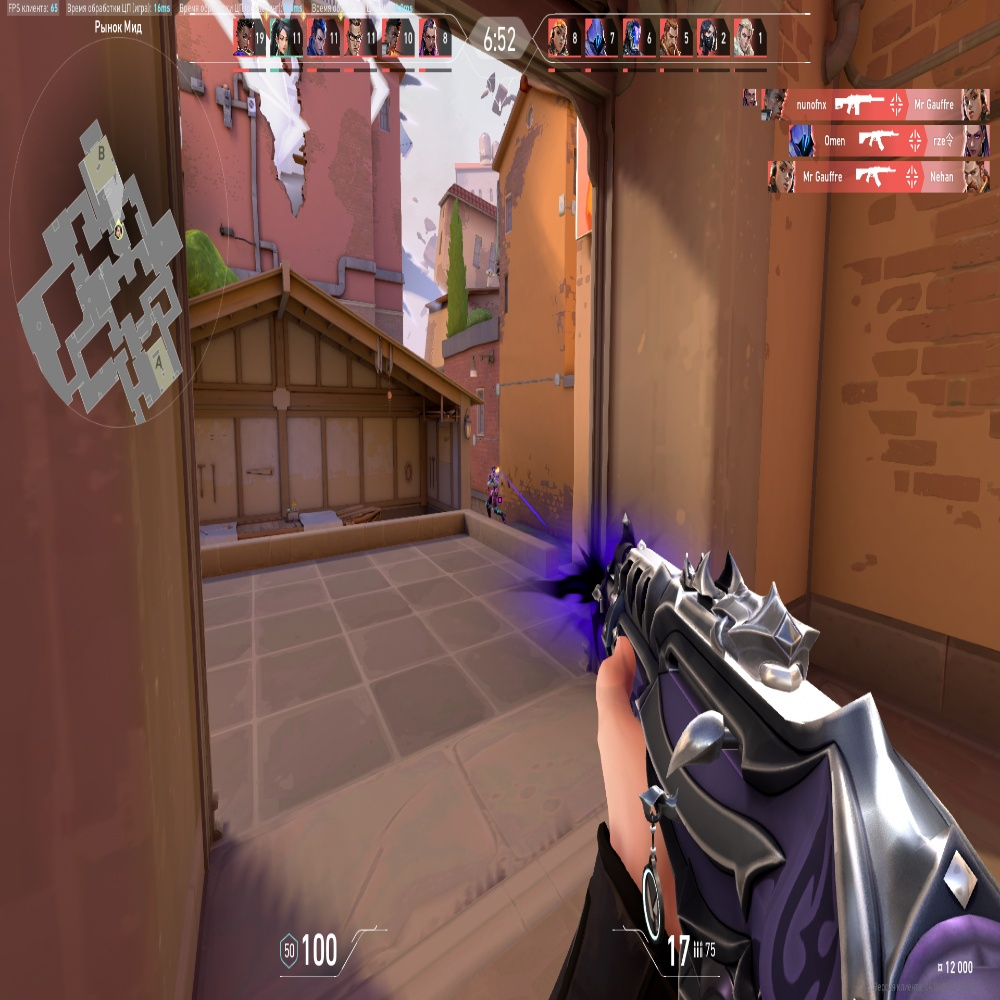body: (488, 476, 499, 495)
head: (492, 467, 496, 473)
